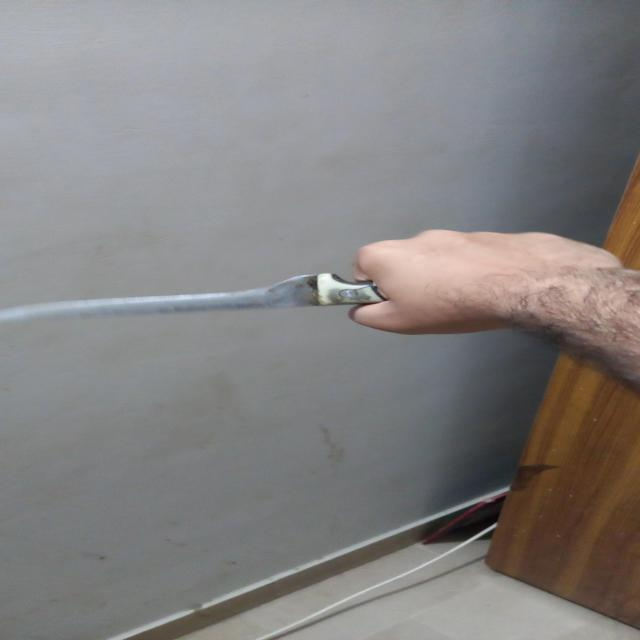faca: (1, 275, 398, 322)
